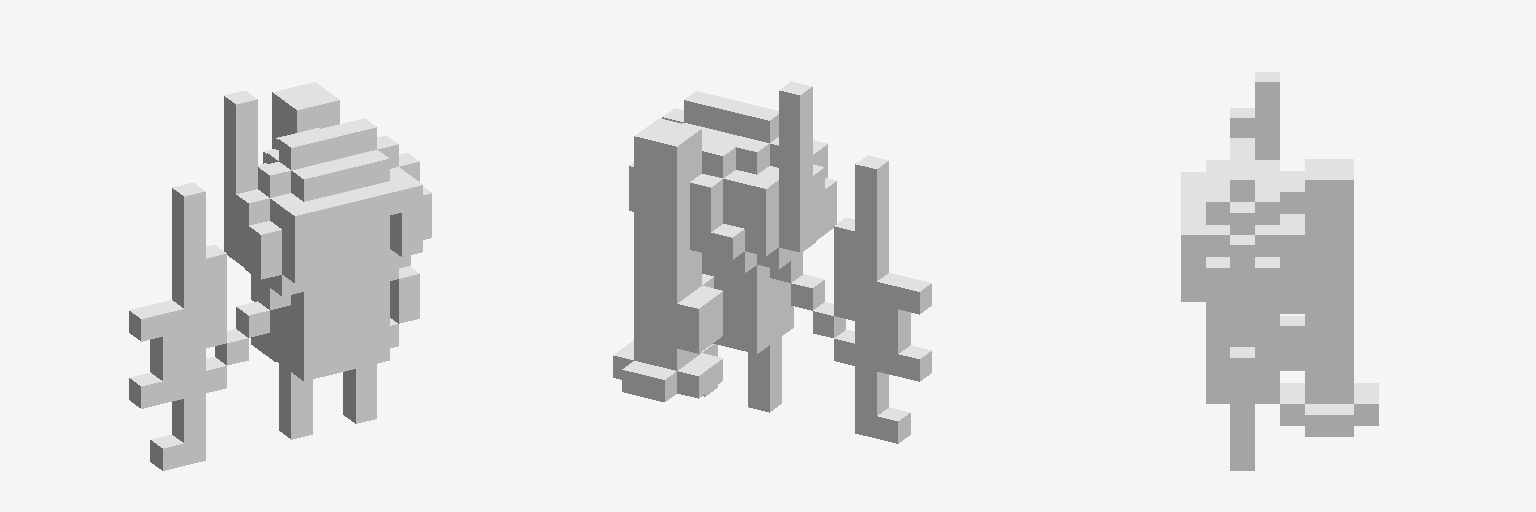
Rendered from infantry_modern.obj.
3 views of the same model, side by side, from view 1: azimuth 30°, elevation 25°; view 2: azimuth 150°, elevation 25°; view 3: azimuth 270°, elevation 25° (orthographic).
Parts seen in each view (by area): view 1: object 1; view 2: object 1; view 3: object 1.
Part boxes in pixels (left/top/right/bottom): object 1: left=129, top=82, right=431, bottom=470; object 1: left=613, top=81, right=931, bottom=443; object 1: left=1181, top=72, right=1378, bottom=470.
Bounding box in the file's own units: 1.3 × 1.5 × 0.8.